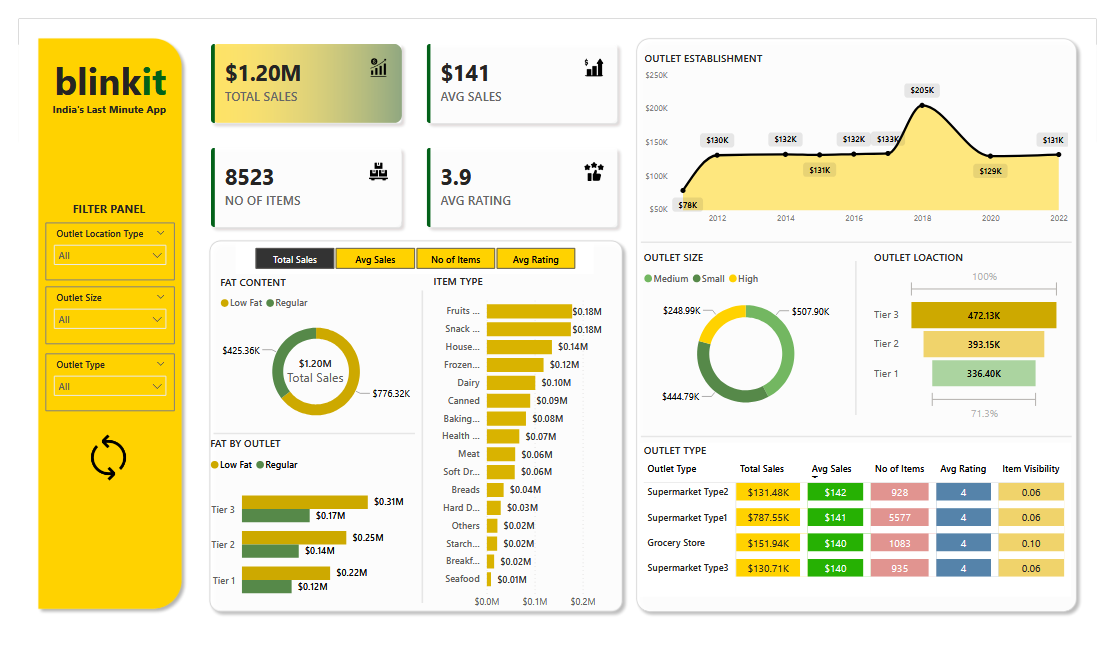

The page's visual inventory and layout, read from the dashboard file:
{"tool":"powerbi","page":{"name":"Page 1","canvas":[1400,800],"ordinal":0},"visuals":[{"type":"shape","box":[16.6,16.6,204.7,758.7],"z":0},{"type":"textbox","box":[34.6,42.7,168.6,78.3],"z":1000},{"type":"textbox","box":[24.1,104.4,188.2,33.1],"z":2000},{"type":"cardVisual","fields":{"Data":["BlinkIT Grocery Data.Total Sales","BlinkIT Grocery Data.Avg Sales","BlinkIT Grocery Data.No of Items","BlinkIT Grocery Data.Avg Rating"]},"box":[221.3,4.5,587.1,296.6],"z":3000},{"type":"shape","box":[239.4,278.9,554,499.8],"z":4000},{"type":"donutChart","title":"FAT CONTENT","fields":{"Y":["BlinkIT Grocery Data.Total Sales"],"Category":["BlinkIT Grocery Data.Item Fat Content"]},"box":[257.4,332.7,258.9,206.2],"z":5000},{"type":"slicer","fields":{"Values":["Metrics.Metrics"]},"box":[281.5,291.1,465.2,40.6],"z":6000},{"type":"cardVisual","fields":{"Data":["BlinkIT Grocery Data.Total Sales"]},"box":[319.1,421.5,134,70.8],"z":7000},{"type":"clusteredBarChart","title":"FAT BY OUTLET","fields":{"Y":["BlinkIT Grocery Data.Total Sales"],"Category":["BlinkIT Grocery Data.Outlet Location Type"],"Series":["BlinkIT Grocery Data.Item Fat Content"]},"box":[243.9,543.4,261.9,228.8],"z":8000},{"type":"shape","box":[252.9,525.9,261.9,25.6],"z":9000},{"type":"shape","box":[505.8,352.8,37.6,406.5],"z":10000},{"type":"barChart","title":"ITEM TYPE","fields":{"Y":["BlinkIT Grocery Data.Total Sales"],"Category":["BlinkIT Grocery Data.Item Type"]},"box":[534.4,331.7,245.4,444.1],"z":11000},{"type":"shape","box":[793.3,16.6,590.1,763.2],"z":12000},{"type":"lineChart","title":"OUTLET ESTABLISHMENT","fields":{"Y":["BlinkIT Grocery Data.Total Sales"],"Category":["BlinkIT Grocery Data.Outlet Establishment Year"]},"box":[808.4,42.2,560,234.8],"z":13000},{"type":"shape","box":[808.4,278.5,560,24.1],"z":14000},{"type":"donutChart","title":"OUTLET SIZE","fields":{"Y":["BlinkIT Grocery Data.Total Sales"],"Category":["BlinkIT Grocery Data.Outlet Size"]},"box":[806.9,301.1,275.5,224.3],"z":15000},{"type":"shape","box":[1068.8,314.6,37.6,200.2],"z":16000},{"type":"funnel","title":"OUTLET LOACTION","fields":{"Y":["Sum(BlinkIT Grocery Data.Sales)"],"Category":["BlinkIT Grocery Data.Outlet Location Type"]},"box":[1106.5,301.1,251.4,227.3],"z":17000},{"type":"shape","box":[808.4,531.4,560,24.1],"z":18000},{"type":"pivotTable","title":"OUTLET TYPE","fields":{"Rows":["BlinkIT Grocery Data.Outlet Type"],"Values":["BlinkIT Grocery Data.Total Sales","BlinkIT Grocery Data.Avg Sales","BlinkIT Grocery Data.No of Items","BlinkIT Grocery Data.Avg Rating","Avg(BlinkIT Grocery Data.Item Visibility)"]},"box":[806.9,551,560,200.2],"z":19000},{"type":"slicer","fields":{"Values":["BlinkIT Grocery Data.Outlet Location Type"]},"box":[34.6,264.9,168.6,75.3],"z":20000},{"type":"slicer","fields":{"Values":["BlinkIT Grocery Data.Outlet Size"]},"box":[34.6,347.7,168.6,75.3],"z":21000},{"type":"slicer","fields":{"Values":["BlinkIT Grocery Data.Outlet Type"]},"box":[34.6,435.1,168.6,75.3],"z":22000},{"type":"textbox","box":[15.1,221.3,188.2,33.1],"z":23000}]}

Visuals, with their boxes in screenshot pixels (x1, y1, x2, y2), scaled from the page's 1400x800 canvas onto the 1113x652 screenshot:
shape: <region>13, 14, 176, 632</region>
textbox: <region>28, 35, 162, 99</region>
textbox: <region>19, 85, 169, 112</region>
cardVisual - BlinkIT Grocery Data.Total Sales x BlinkIT Grocery Data.Avg Sales: <region>176, 4, 643, 245</region>
shape: <region>190, 227, 631, 635</region>
"FAT CONTENT" donutChart: <region>205, 271, 410, 439</region>
slicer - Metrics.Metrics: <region>224, 237, 594, 270</region>
cardVisual - BlinkIT Grocery Data.Total Sales: <region>254, 344, 360, 401</region>
"FAT BY OUTLET" clusteredBarChart: <region>194, 443, 402, 629</region>
shape: <region>201, 429, 409, 449</region>
shape: <region>402, 288, 432, 619</region>
"ITEM TYPE" barChart: <region>425, 270, 620, 632</region>
shape: <region>631, 14, 1100, 636</region>
"OUTLET ESTABLISHMENT" lineChart: <region>643, 34, 1088, 226</region>
shape: <region>643, 227, 1088, 247</region>
"OUTLET SIZE" donutChart: <region>641, 245, 861, 428</region>
shape: <region>850, 256, 880, 420</region>
"OUTLET LOACTION" funnel: <region>880, 245, 1080, 431</region>
shape: <region>643, 433, 1088, 453</region>
"OUTLET TYPE" pivotTable: <region>641, 449, 1087, 612</region>
slicer - BlinkIT Grocery Data.Outlet Location Type: <region>28, 216, 162, 277</region>
slicer - BlinkIT Grocery Data.Outlet Size: <region>28, 283, 162, 345</region>
slicer - BlinkIT Grocery Data.Outlet Type: <region>28, 355, 162, 416</region>
textbox: <region>12, 180, 162, 207</region>
